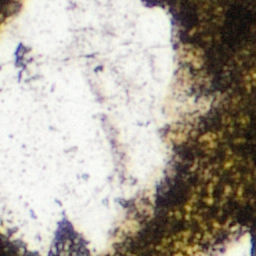cement_matrix: (112, 0, 255, 255), (53, 226, 89, 255), (0, 235, 31, 255), (0, 0, 15, 21), (15, 45, 28, 68)
gravel_crushed_stones: (0, 0, 212, 255), (180, 231, 252, 255), (14, 44, 29, 69)
